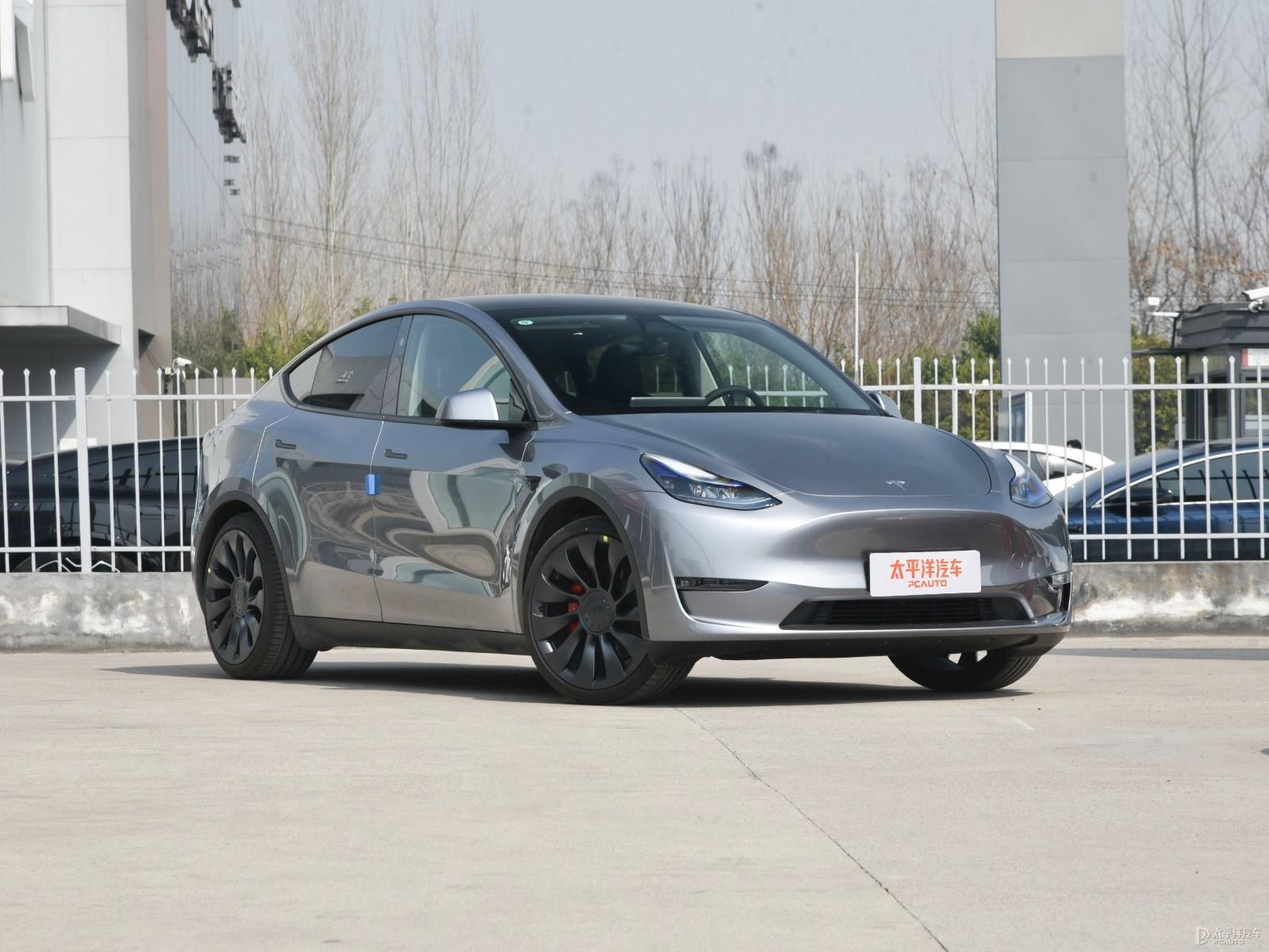Tesla: (884, 479, 907, 494)
